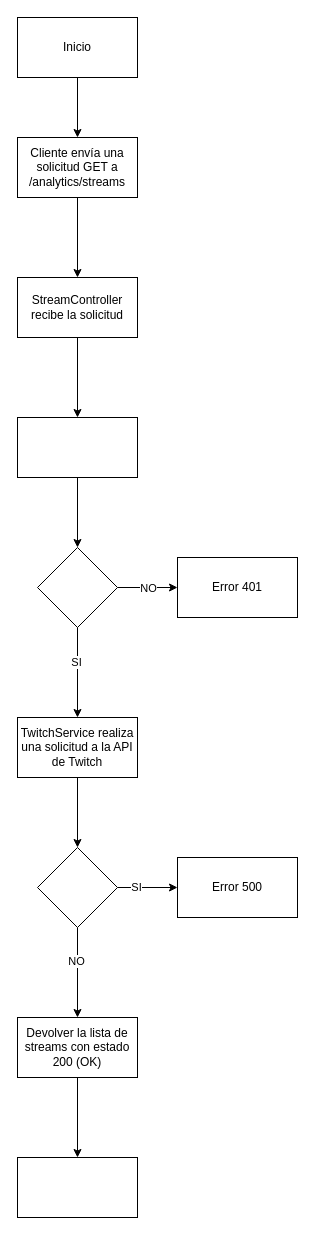
The diagram is 315 pixels wide and 1235 high, and some of its shapes have lost their labels. Here are the shapes that lost their labels. From the top down, the centre of each, then its label:
point 77,447: StreamController llama a TwitchService
point 77,587: ¿Token válido?
point 77,887: ¿Hay un error interno?
point 77,1187: FIN
